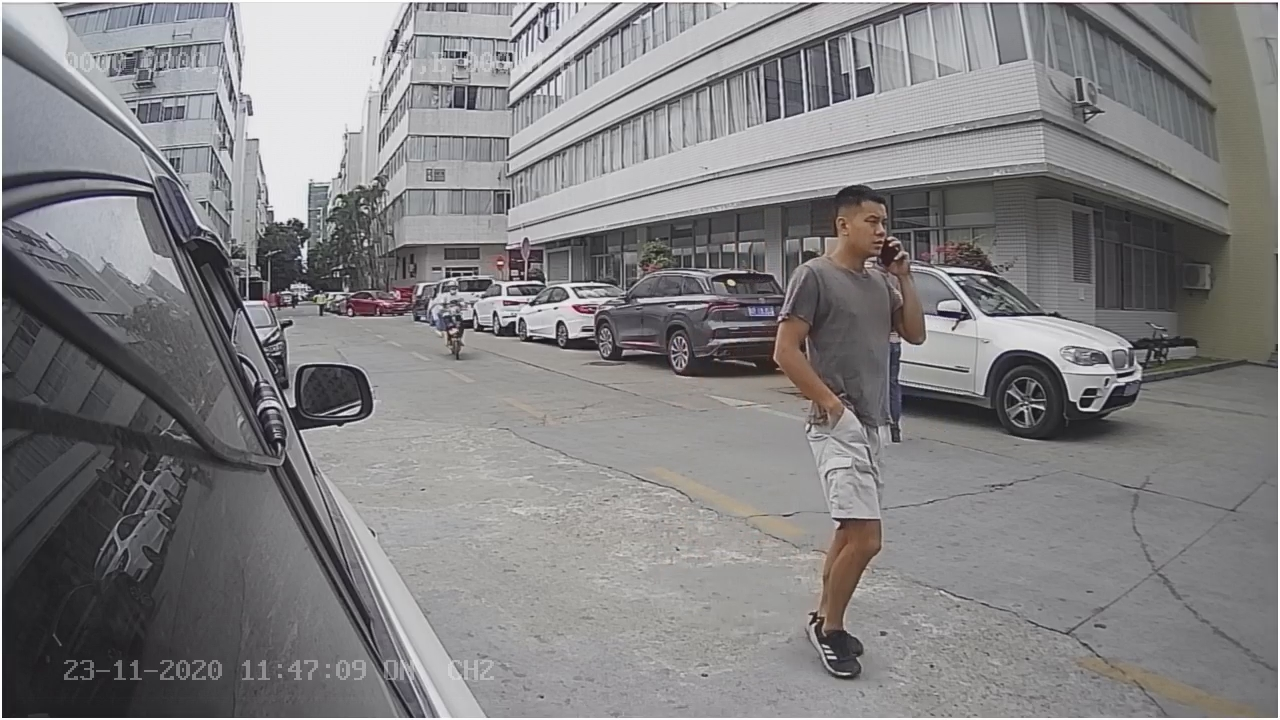person: (765, 187, 926, 679)
